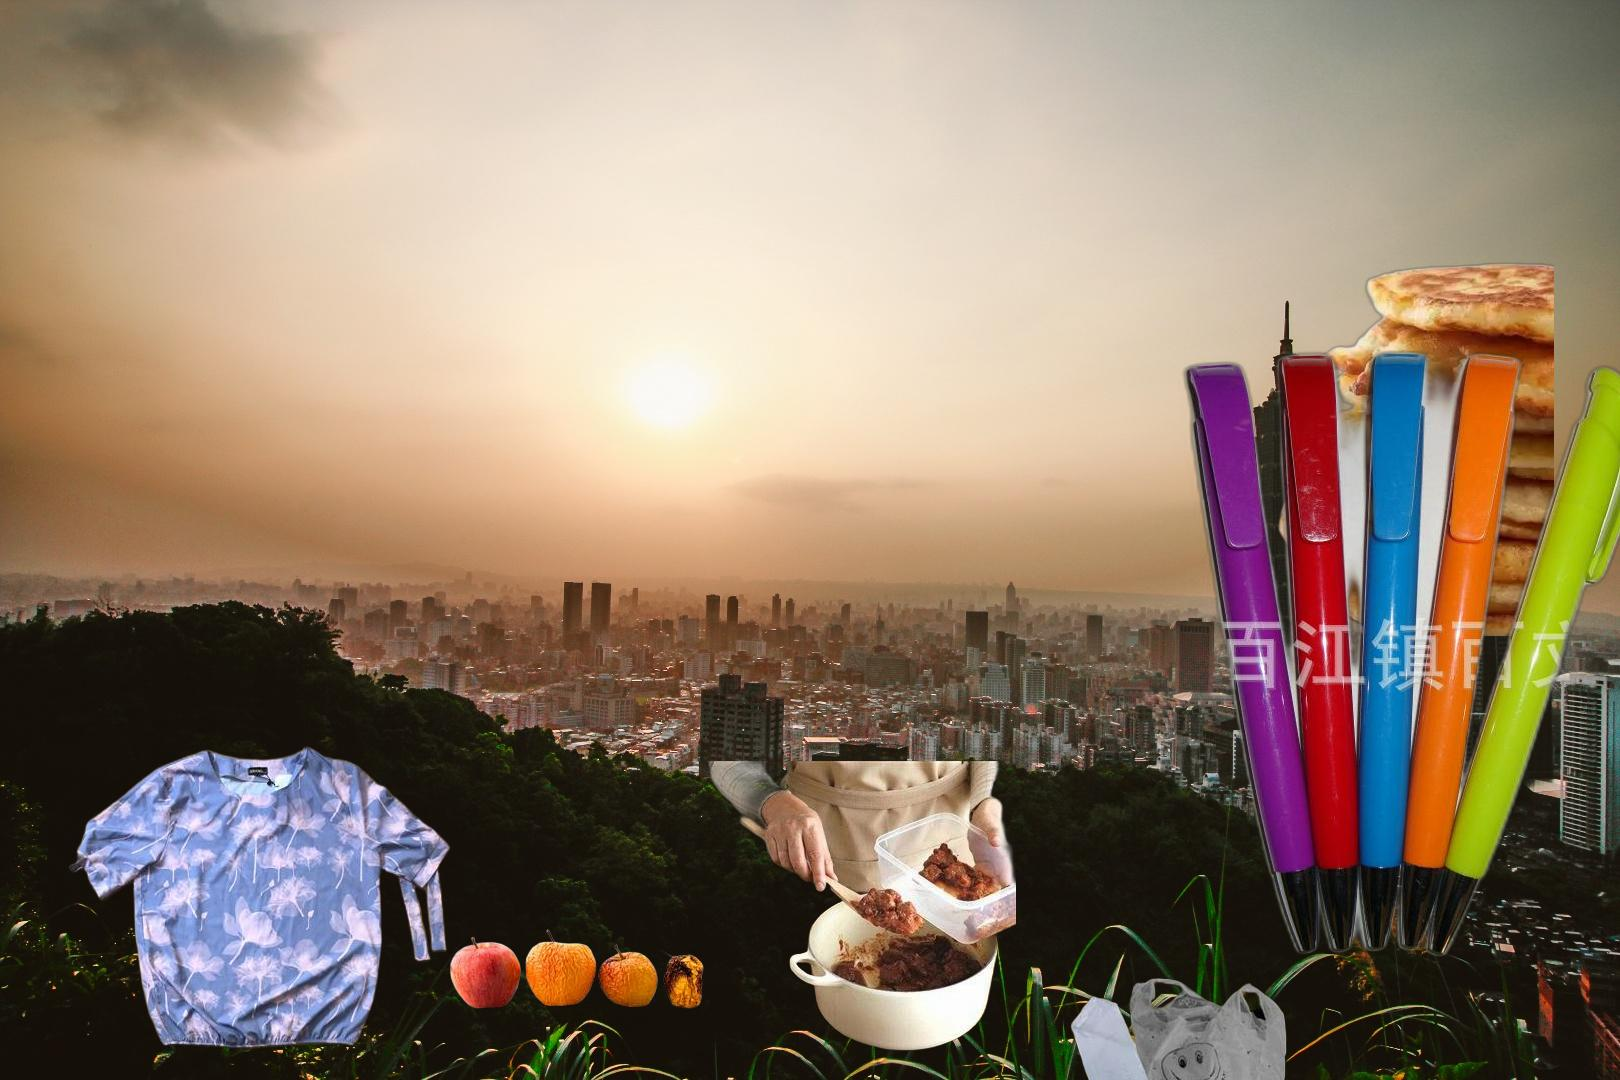biological: (1270, 259, 1554, 636), (702, 761, 1016, 1053), (447, 926, 708, 1012)
clothes: (67, 742, 457, 1053)
penholder: (1175, 345, 1620, 962)
plastic-bag: (1068, 976, 1290, 1080)
